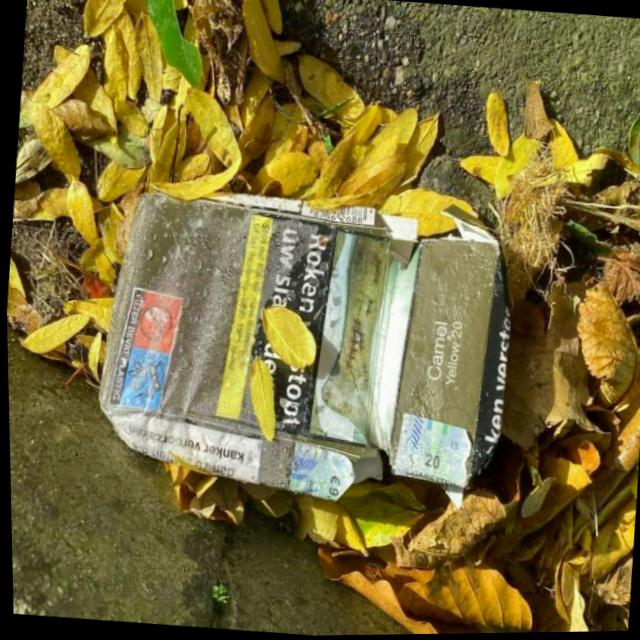Paper: (77, 171, 530, 549)
